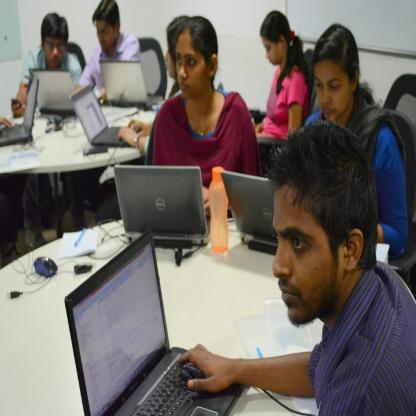board: (65, 228, 247, 416), (107, 166, 213, 257), (220, 172, 278, 254), (70, 83, 140, 147), (99, 61, 163, 110), (0, 69, 40, 145), (28, 68, 77, 117)
